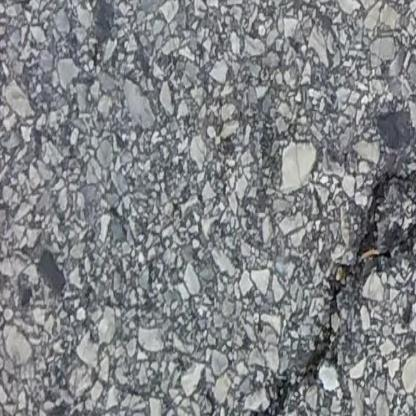Cracks: (241, 139, 416, 416)
